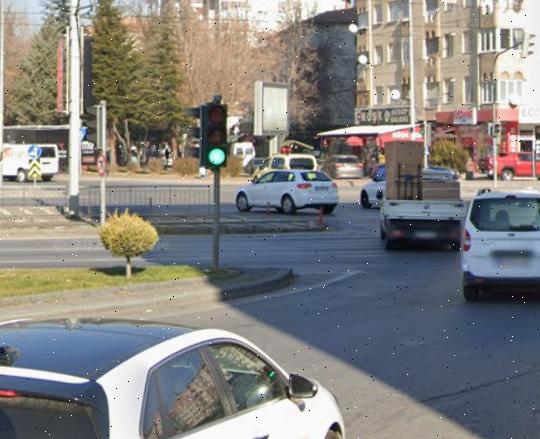greenlight: (200, 104, 228, 170)
